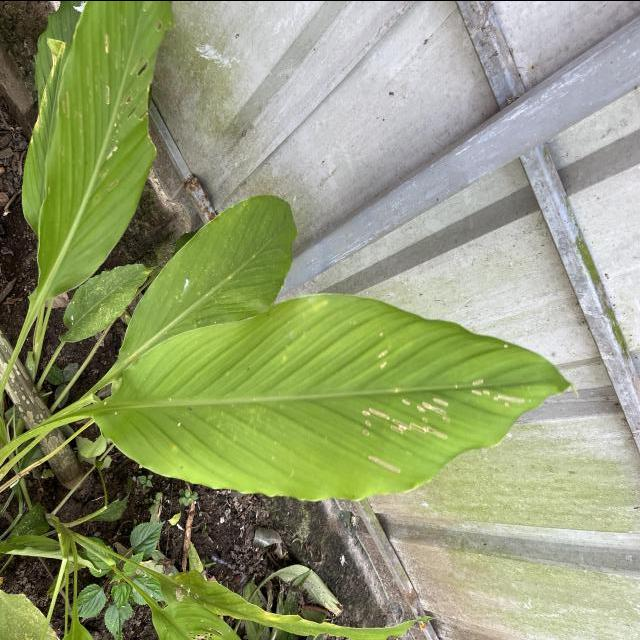Curcuma longa: (88, 284, 594, 507)
